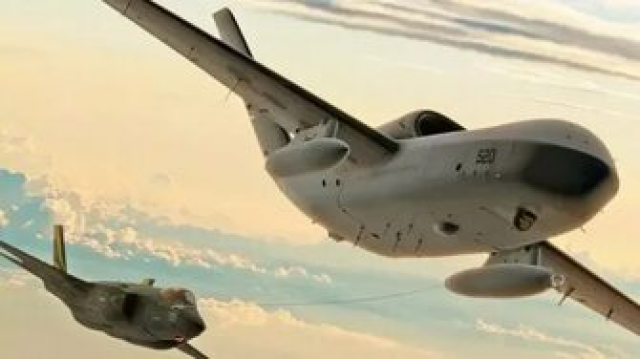military drone: (100, 0, 640, 337), (0, 224, 210, 359)
